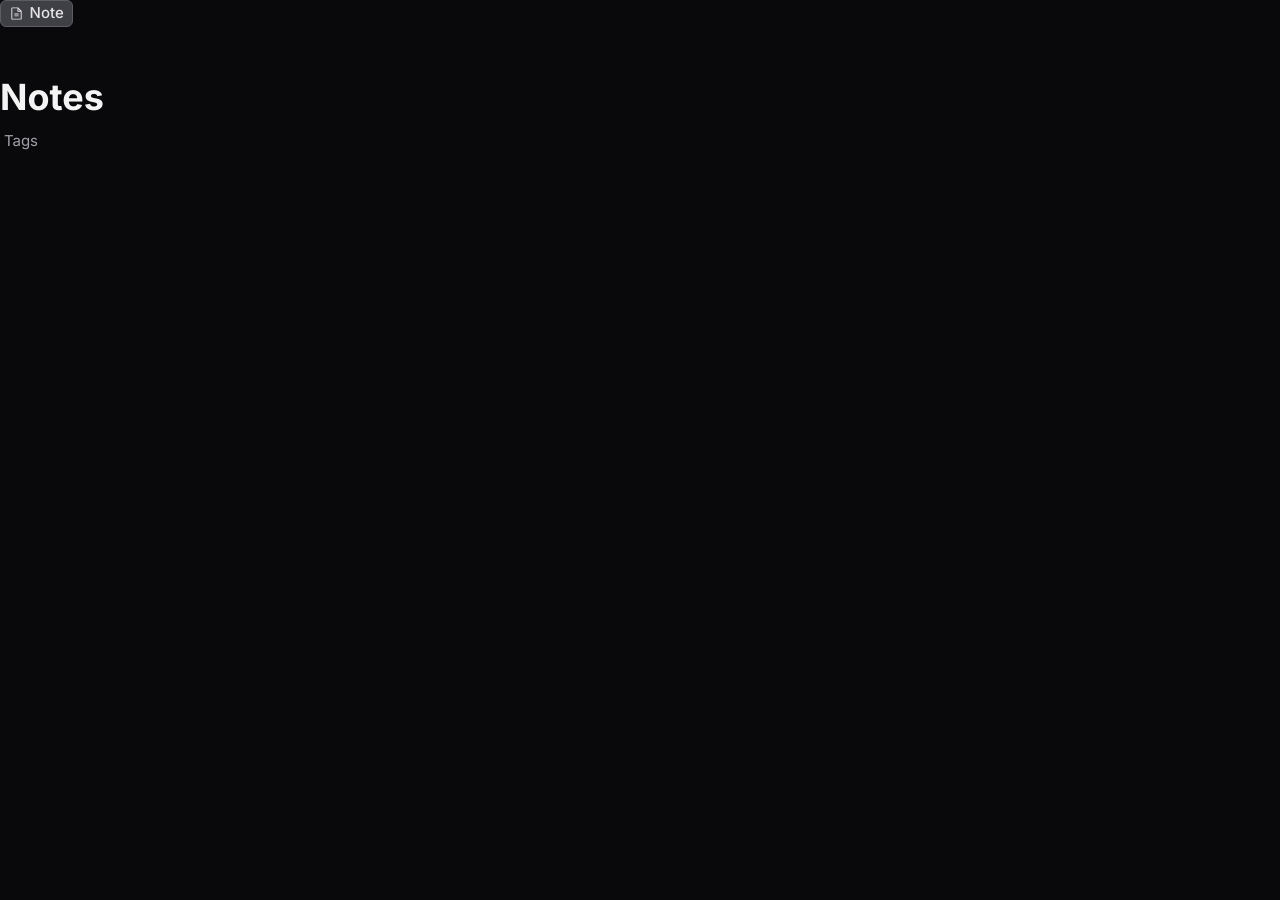
ObjectHeader › test #do opens tag picker and adds tag, removing "#do" from title
Replace the text in the field named "title" with "Notes #do" at (640, 98), box [0, 75, 1279, 120]
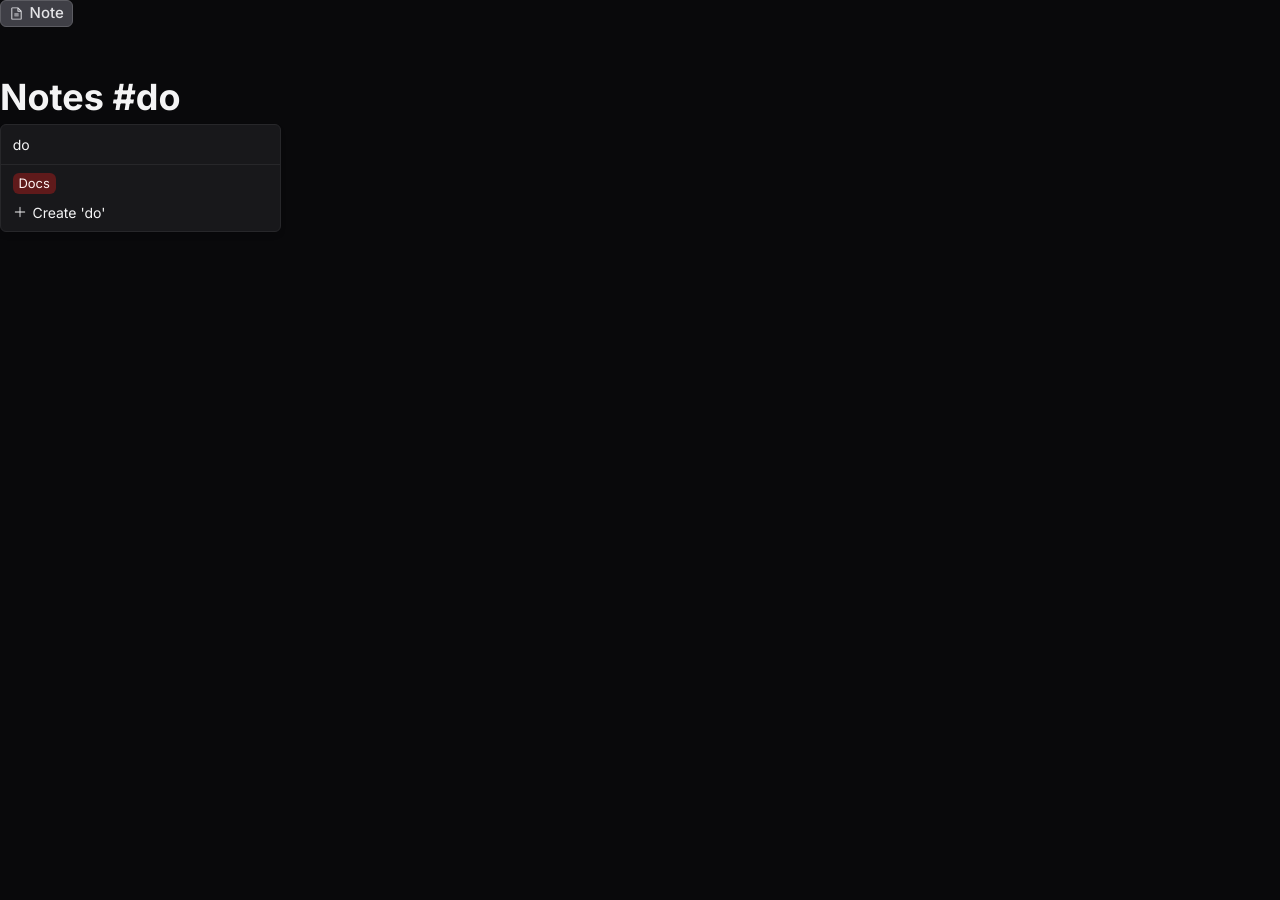
Check: the field with placeholder "Find a tag or type a new one" holds "do", box [7, 131, 274, 158]
Click the option "Docs" at (34, 183), box [13, 172, 56, 194]
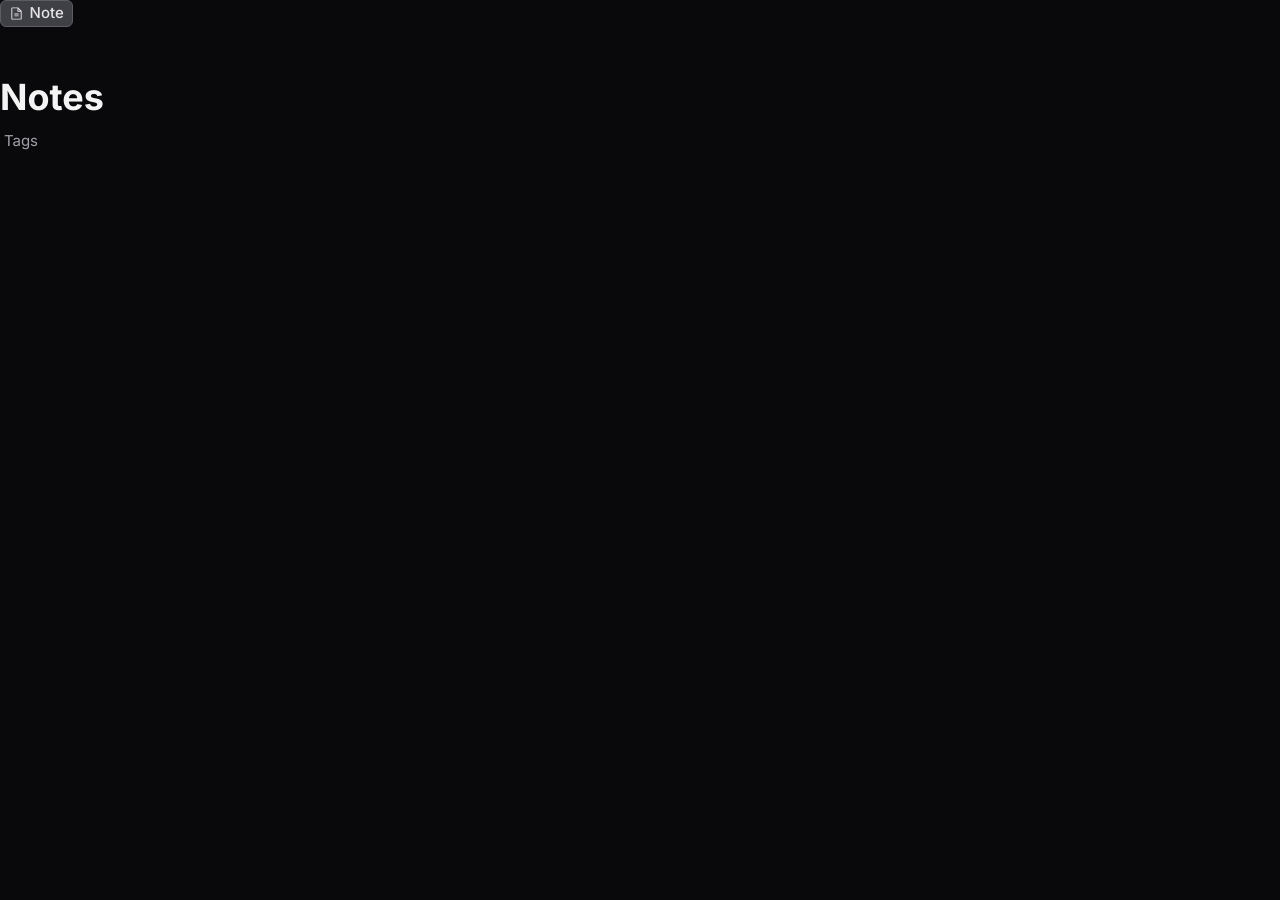
Check: the field named "title" holds "Notes", box [0, 75, 1279, 120]
